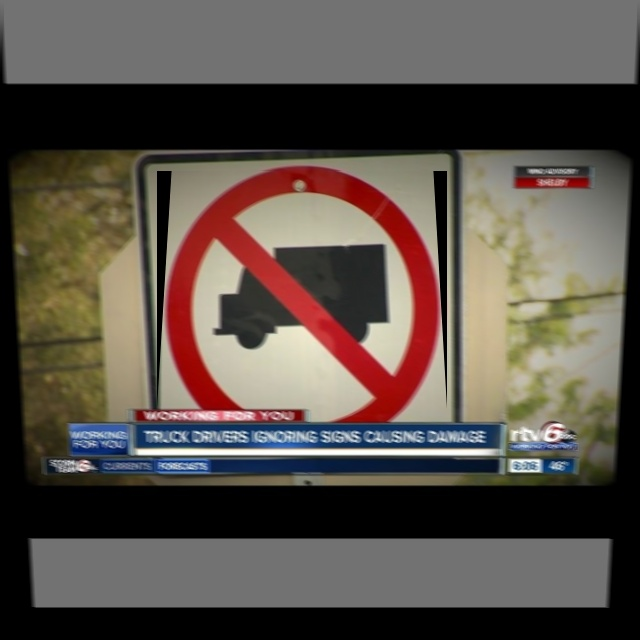Truck_Prohibited: (157, 171, 447, 409)
